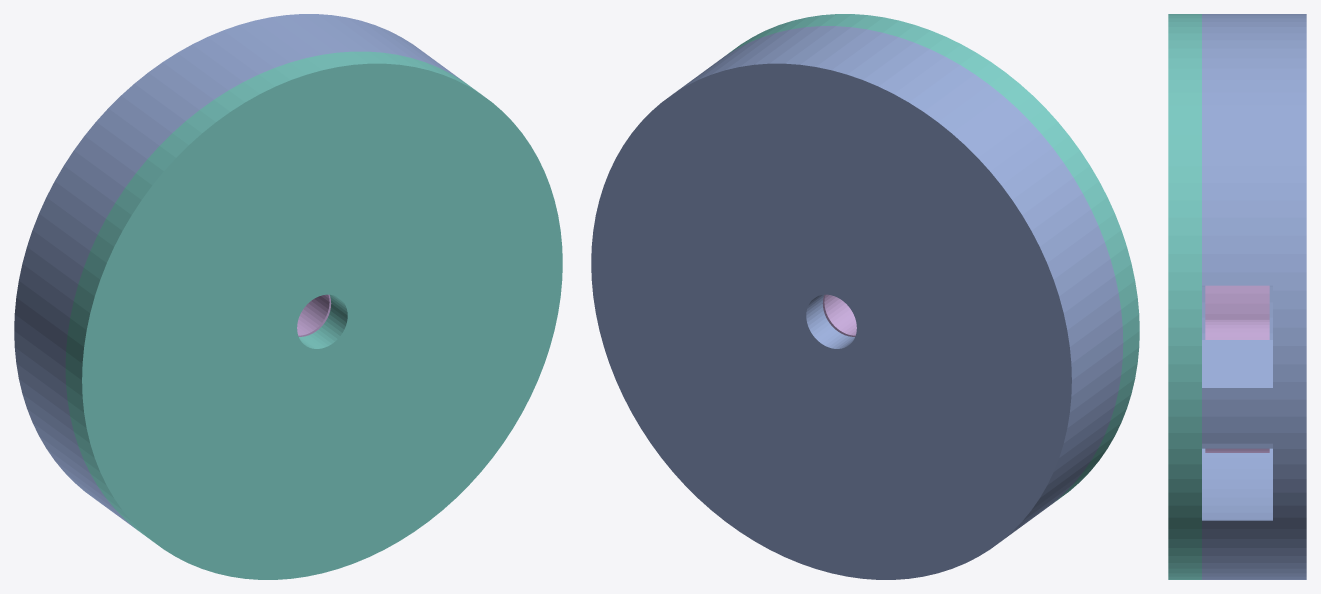
File: peristaltic_pump_head_demo.glb
3 views of the same model, side by side, from view 1: azimuth 30°, elevation 25°; view 2: azimuth 150°, elevation 25°; view 3: azimuth 270°, elevation 25° (orthographic).
Visible parts, largest first — view 1: peristaltic_cap, peristaltic_body, peristaltic_rotor; view 2: peristaltic_body, peristaltic_cap, peristaltic_rotor; view 3: peristaltic_body, peristaltic_cap, peristaltic_rotor.
Boxes of the visible parts, box(x1,y1,x2,y2) form: peristaltic_cap: box(65, 51, 562, 579); peristaltic_body: box(14, 14, 462, 527); peristaltic_rotor: box(297, 294, 331, 336); peristaltic_body: box(591, 26, 1123, 579); peristaltic_cap: box(727, 14, 1139, 502); peristaltic_rotor: box(822, 294, 856, 336); peristaltic_body: box(1202, 14, 1306, 579); peristaltic_cap: box(1168, 14, 1201, 579); peristaltic_rotor: box(1205, 285, 1269, 452).
Size of the model in its own units: 50.3 by 50.3 by 12.3.
